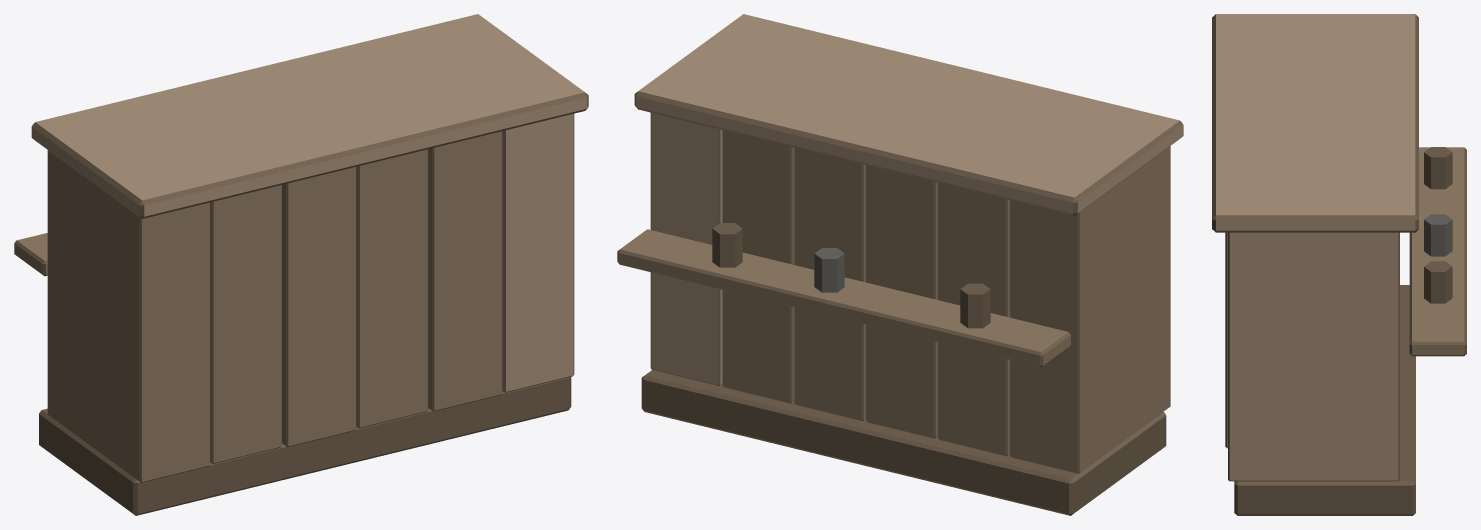
The model's file is bar_counter.glb.
The picture shows the model from 3 angles, left to right: view 1: azimuth 30°, elevation 25°; view 2: azimuth 150°, elevation 25°; view 3: azimuth 270°, elevation 25°; orthographic projection. The views are drawn at different scales.
Parts seen in each view (by area): view 1: Bar_Counter; view 2: Bar_Counter; view 3: Bar_Counter.
Boxes of the visible parts, left/top/right/bottom form: Bar_Counter: left=14, top=14, right=588, bottom=515; Bar_Counter: left=617, top=14, right=1183, bottom=515; Bar_Counter: left=1212, top=14, right=1466, bottom=515.
Bounding box in the file's own units: 1.52 × 1.05 × 0.8.
